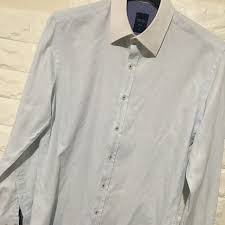C_shirt: (1, 1, 225, 221)
